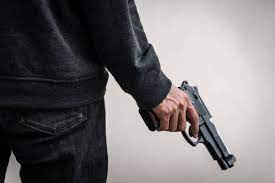gun: (140, 79, 239, 171)
